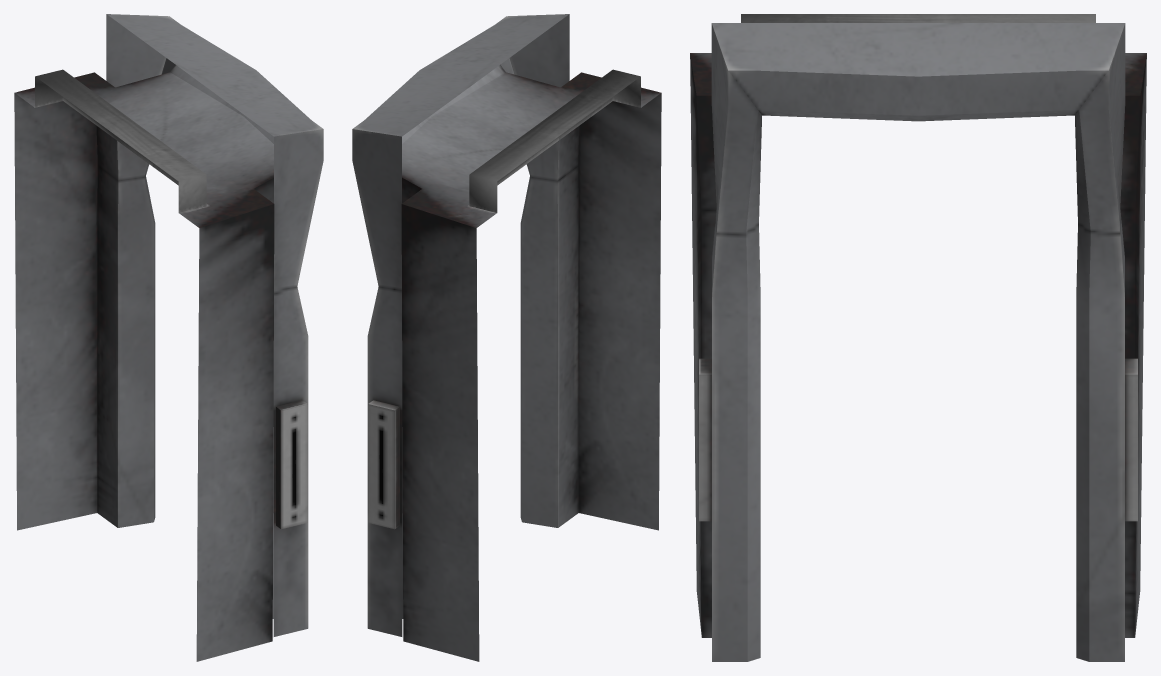
Rendered from VR_DoorFrame_2x.fbx.
The picture shows the model from 3 angles, left to right: view 1: azimuth 30°, elevation 25°; view 2: azimuth 150°, elevation 25°; view 3: azimuth 270°, elevation 25°; orthographic projection. The views are drawn at different scales.
Parts seen in each view (by area): view 1: Plane.069; view 2: Plane.069; view 3: Plane.069.
Part boxes in pixels (bbox=[...]): Plane.069: bbox=[14, 14, 323, 661]; Plane.069: bbox=[352, 14, 661, 661]; Plane.069: bbox=[690, 14, 1146, 661].
Bounding box in the file's own units: 0.8978 × 2.87 × 1.92.
